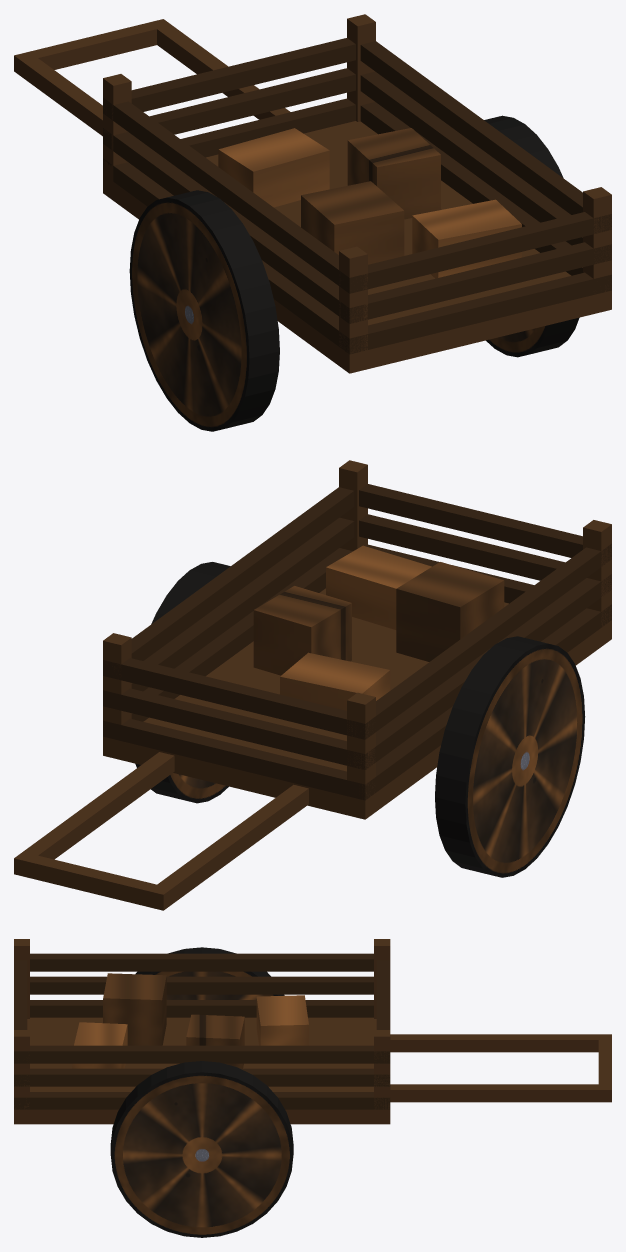
Rendered from holzwagen_t2_blur_halb.fbx.
The picture shows the model from 3 angles, top to bottom: view 1: azimuth 30°, elevation 25°; view 2: azimuth 150°, elevation 25°; view 3: azimuth 270°, elevation 25°; orthographic projection. The views are drawn at different scales.
Visible parts, largest first — view 1: Holzwagen_T2_blur; view 2: Holzwagen_T2_blur; view 3: Holzwagen_T2_blur.
Part boxes in pixels (<box>): Holzwagen_T2_blur: <box>14,14,611,431</box>; Holzwagen_T2_blur: <box>14,460,611,910</box>; Holzwagen_T2_blur: <box>14,939,611,1237</box>.
Size of the model in its own units: 110 by 77 by 222.
